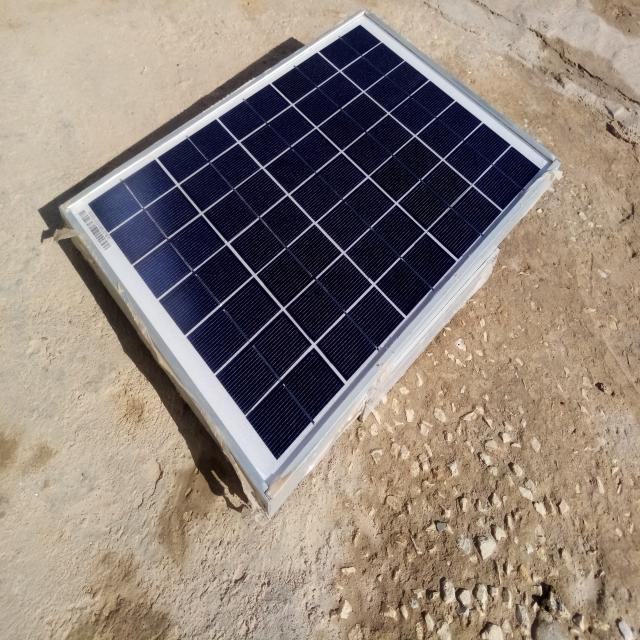no faulty: (62, 12, 558, 492)
